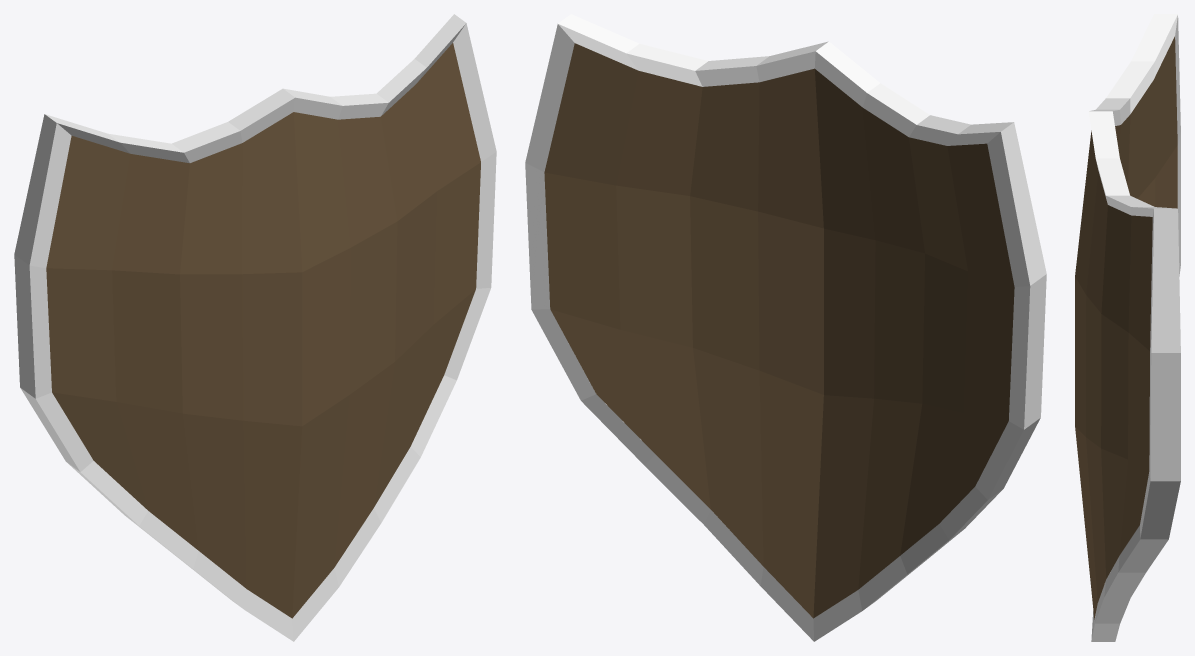
The model's file is paladin-transformed.glb.
3 views of the same model, side by side, from view 1: azimuth 30°, elevation 25°; view 2: azimuth 150°, elevation 25°; view 3: azimuth 270°, elevation 25° (orthographic). The views are drawn at different scales.
Visible parts, largest first — view 1: Cube.001; view 2: Cube.001; view 3: Cube.001.
Boxes of the visible parts, bbox=[...] form: Cube.001: bbox=[14, 14, 496, 641]; Cube.001: bbox=[525, 14, 1046, 641]; Cube.001: bbox=[1075, 14, 1180, 641].
Bounding box in the file's own units: 2.45 × 2.73 × 0.4944.
